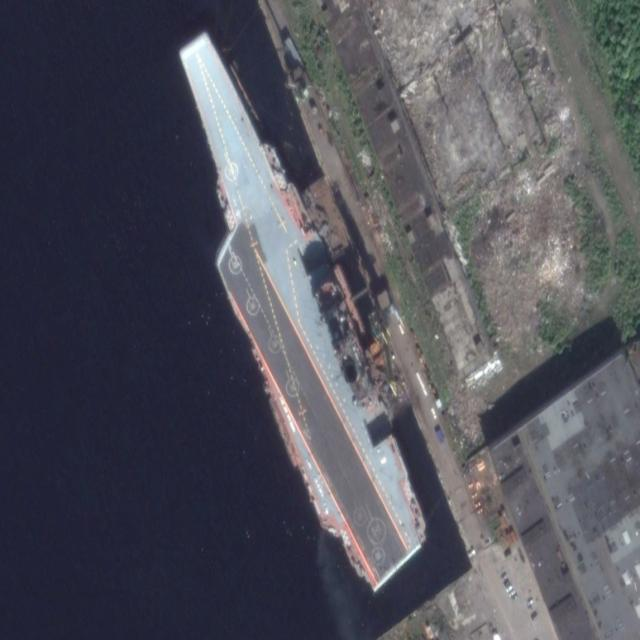Aircraft Carrier: (142, 7, 441, 613)
